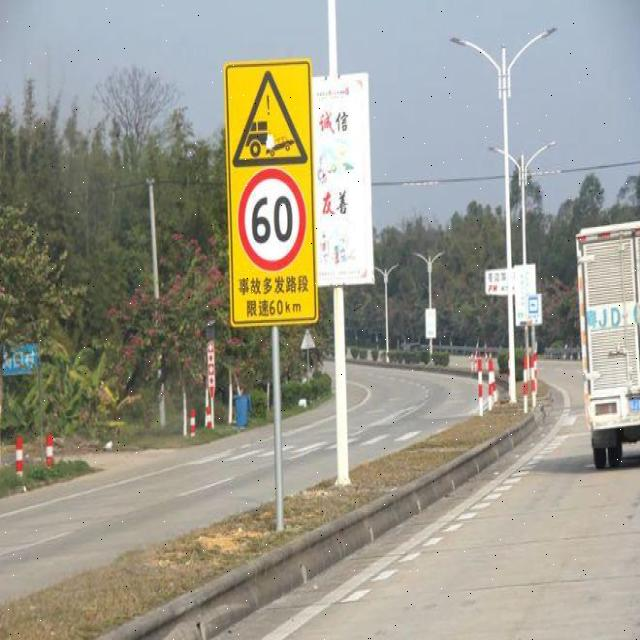speed limit 60: (239, 167, 307, 271)
